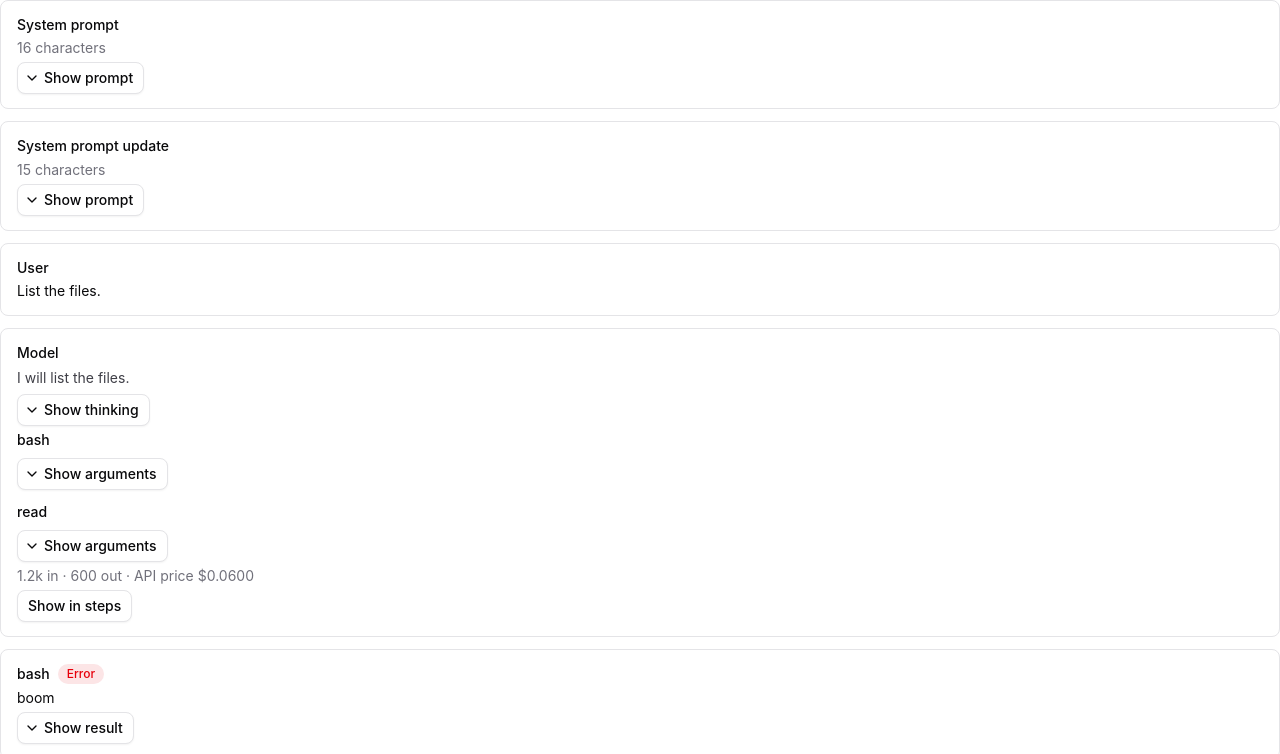
Conversation › shows the pinned context and the pi system message collapsed behind Show prompt
Check: the text "List the files." is shown, box x1=17 y1=282 x2=101 y2=299
Check: the list item "System prompt" shows "16 characters", box x1=17 y1=39 x2=106 y2=56
Click the button "Show prompt" below "16 characters".
click(81, 78)  # box x1=17 y1=62 x2=144 y2=94
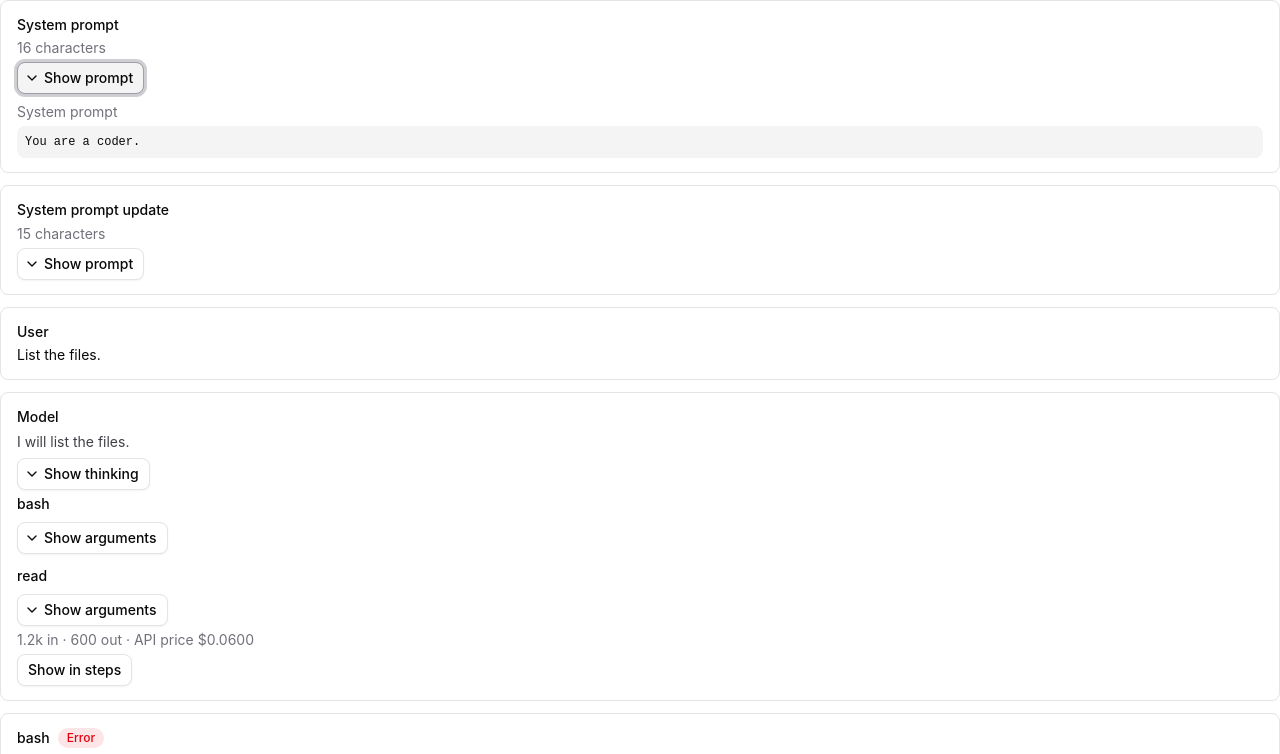
Check: the list item "System prompt update" shows "15 characters", box x1=17 y1=224 x2=106 y2=242
Check: the text "You are a coder." is shown, box x1=17 y1=126 x2=1263 y2=158
Click the button "Show prompt" below "15 characters".
click(81, 264)  # box x1=17 y1=248 x2=144 y2=280
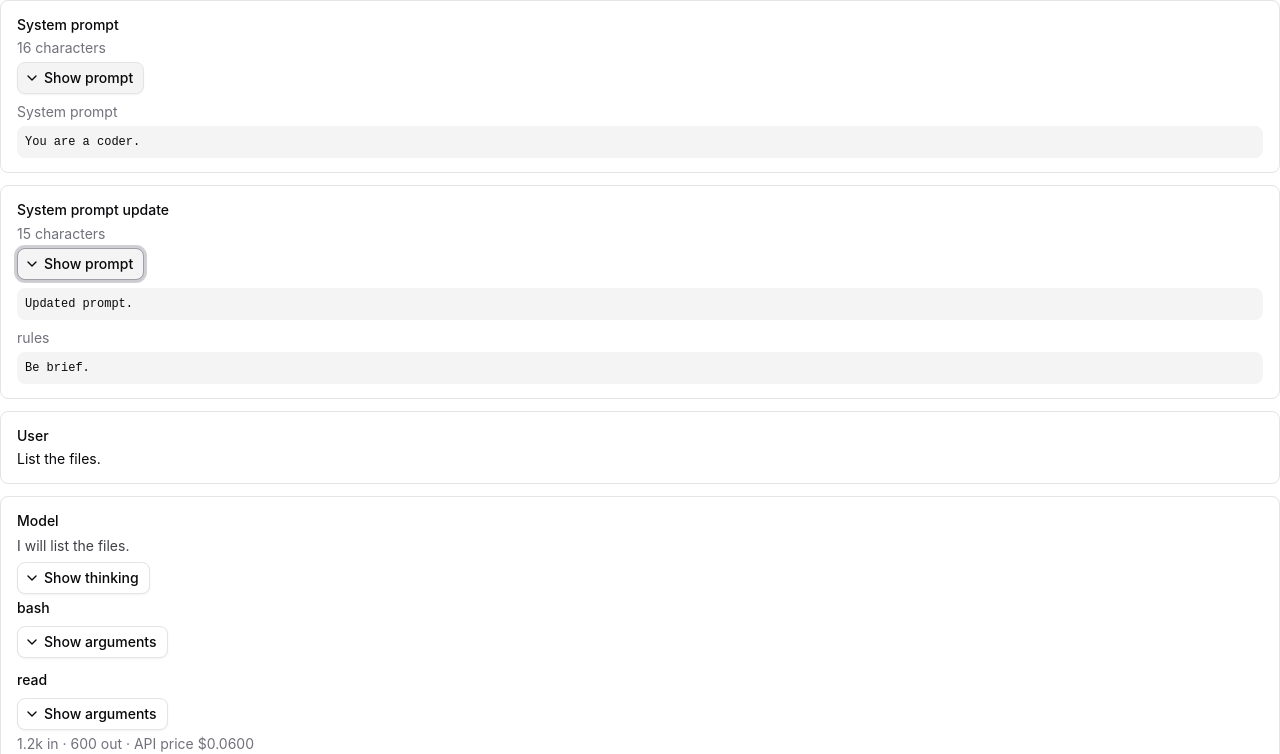
Check: the text "Updated prompt." is shown, box x1=17 y1=288 x2=1263 y2=320
Check: the text "rules" is shown, box x1=17 y1=328 x2=50 y2=346
Check: the text "Be brief." is shown, box x1=17 y1=352 x2=1263 y2=384
